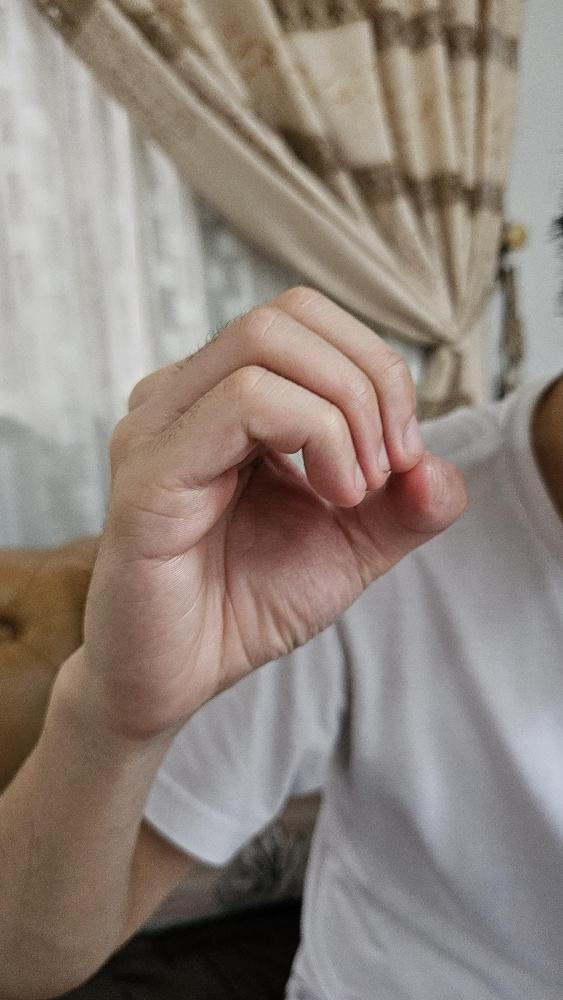o: (84, 281, 471, 743)
